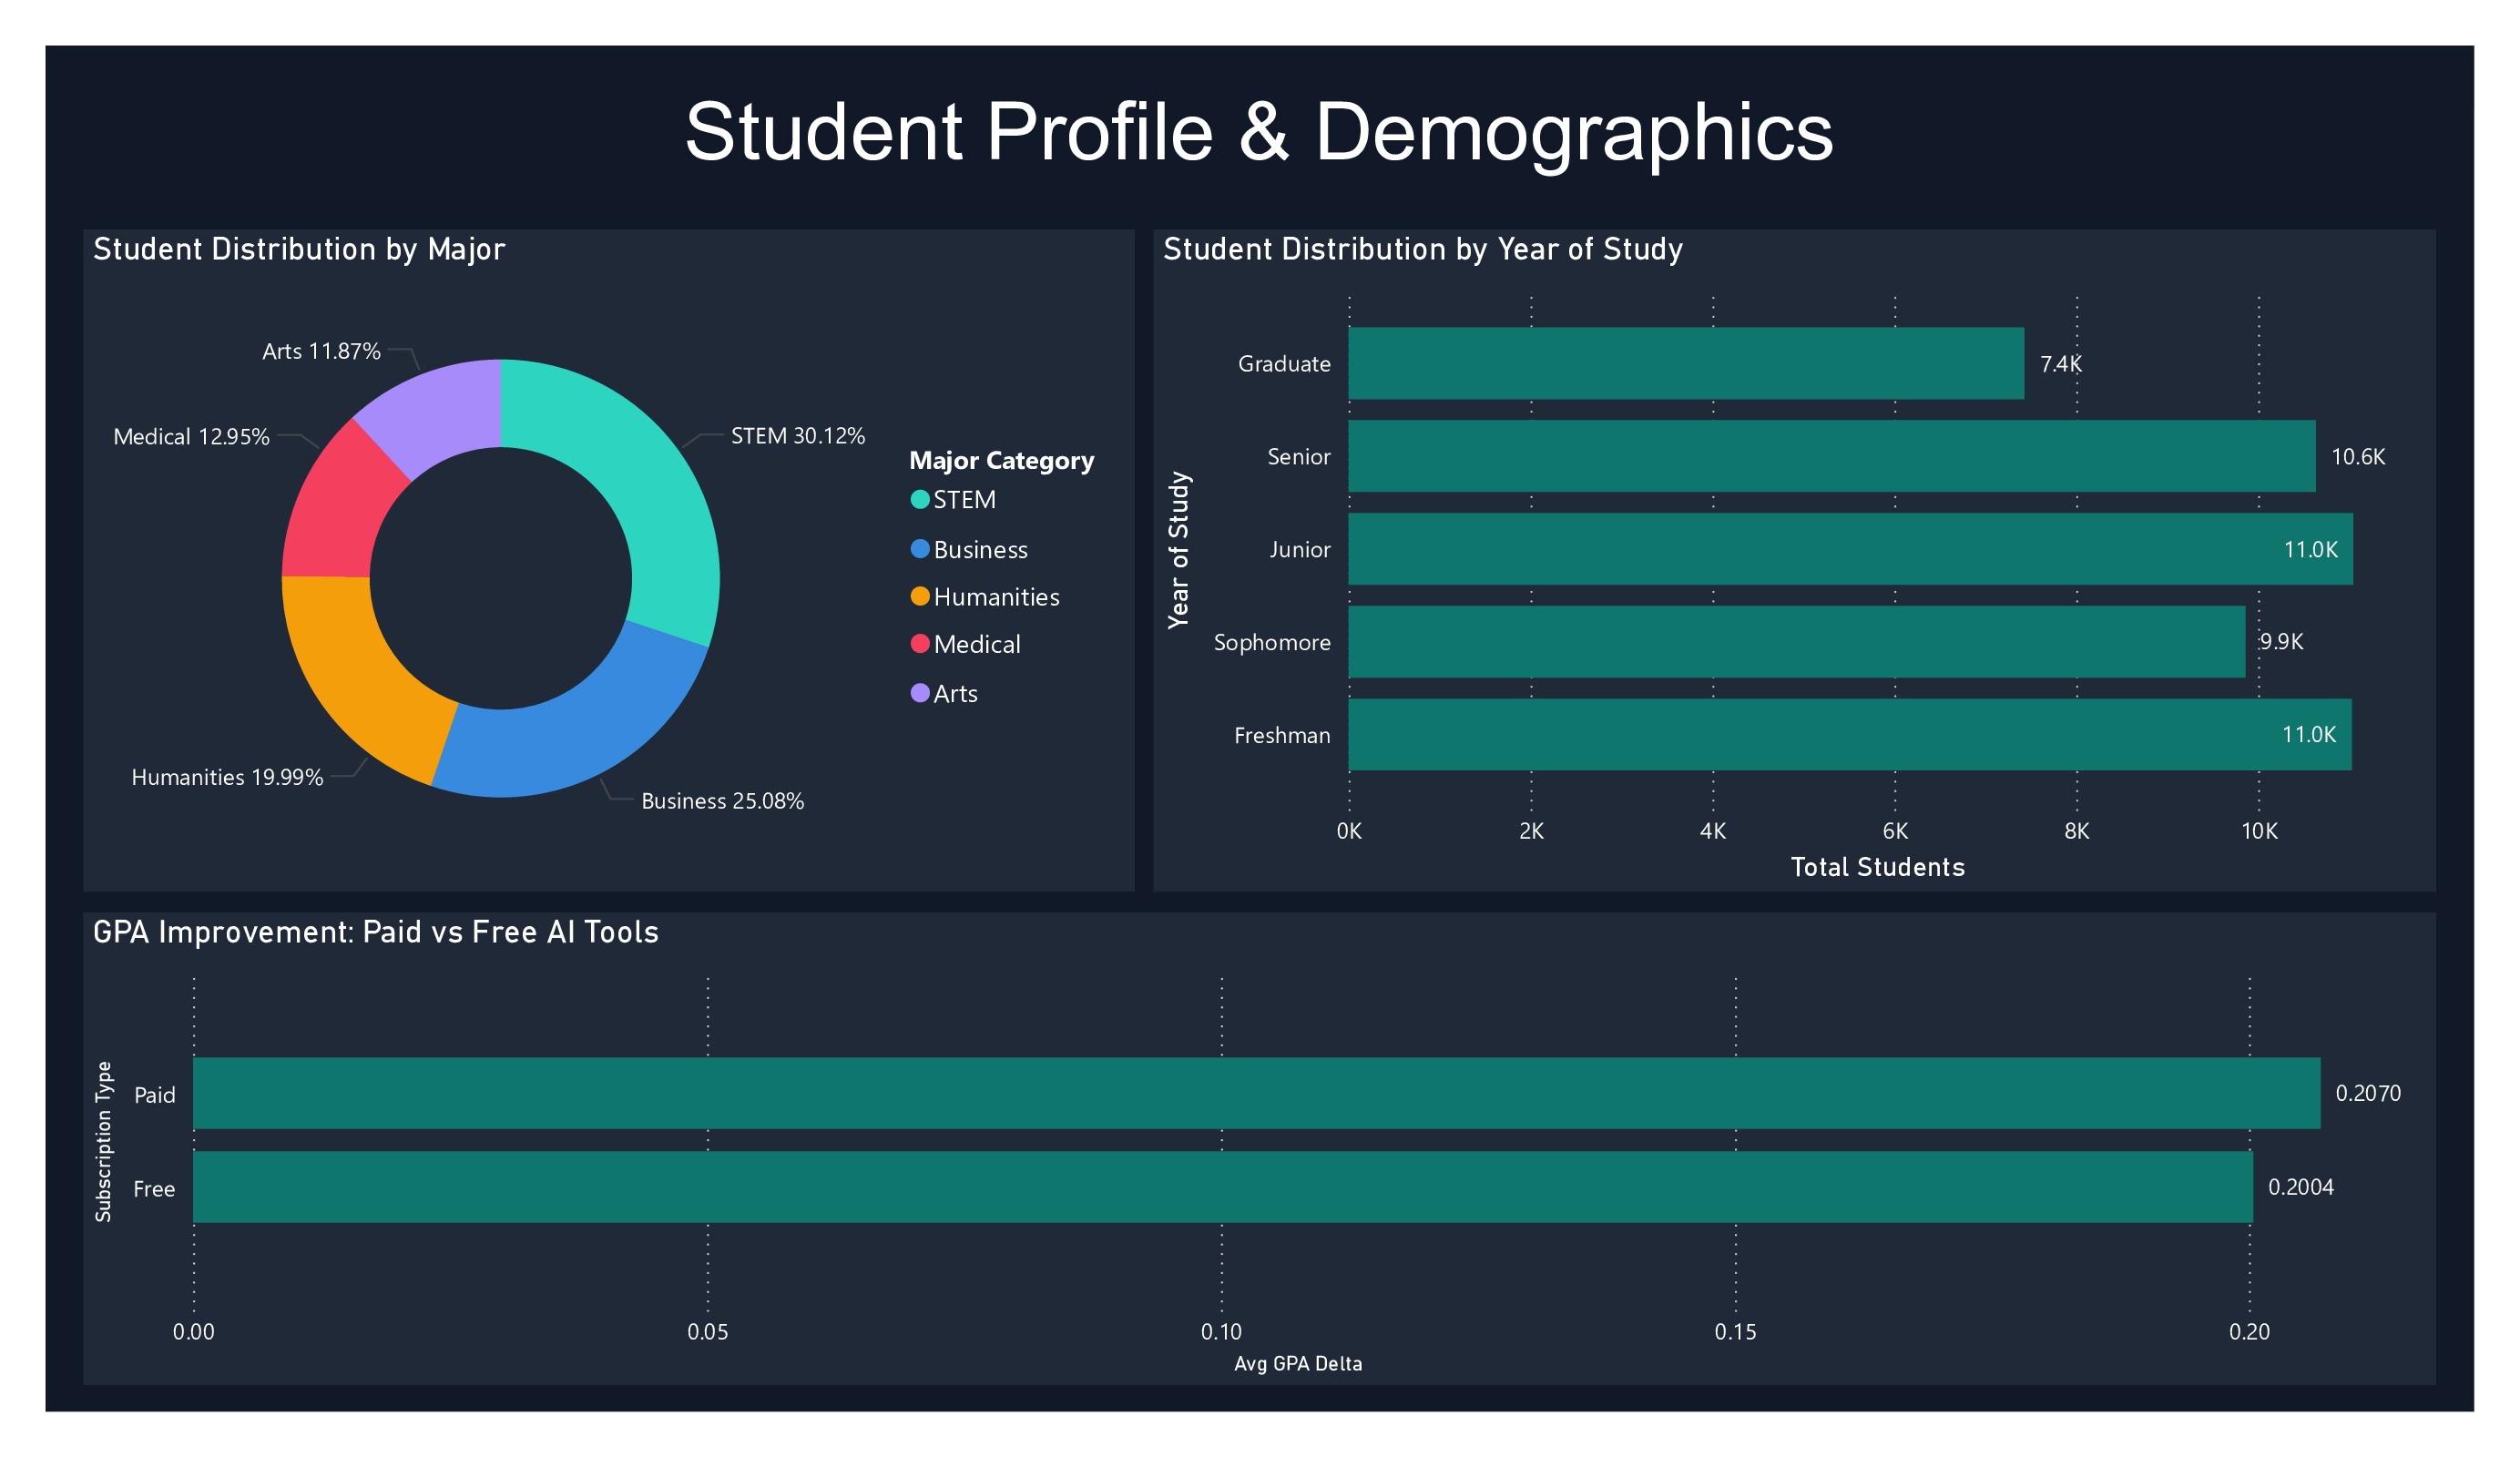

Layout of this report page (visuals, bound fields, positions):
{"tool":"powerbi","page":{"name":"Student Profile","canvas":[1280,720],"ordinal":1},"visuals":[{"type":"donutChart","title":"Student Distribution by Major","fields":{"Category":["ai_student_impact_dataset (1).Major_Category"],"Y":["ai_student_impact_dataset (1).Total Students"]},"box":[20,96.7,554.4,348.9],"z":0},{"type":"clusteredBarChart","title":"Student Distribution by Year of Study","fields":{"Category":["ai_student_impact_dataset (1).Year_of_Study"],"Y":["ai_student_impact_dataset (1).Total Students"]},"box":[584.4,96.7,675.6,348.9],"z":1000},{"type":"clusteredBarChart","title":"GPA Improvement: Paid vs Free AI Tools","fields":{"Category":["ai_student_impact_dataset (1).Subscription_Type"],"Y":["ai_student_impact_dataset (1).Avg GPA Delta"]},"box":[20,456.7,1240,248.9],"z":2000},{"type":"textbox","box":[157.8,15.6,964.4,66.7],"z":3000}]}

Visuals, with their boxes on the page's 1280x720 design canvas (x1, y1, x2, y2). These are canvas units, not pixel positions in the 2520x1457 screenshot, which may show the page scaled, cropped or inside an application window:
"Student Distribution by Major" donutChart: bbox=(20, 97, 574, 446)
"Student Distribution by Year of Study" clusteredBarChart: bbox=(584, 97, 1260, 446)
"GPA Improvement: Paid vs Free AI Tools" clusteredBarChart: bbox=(20, 457, 1260, 706)
textbox: bbox=(158, 16, 1122, 82)
